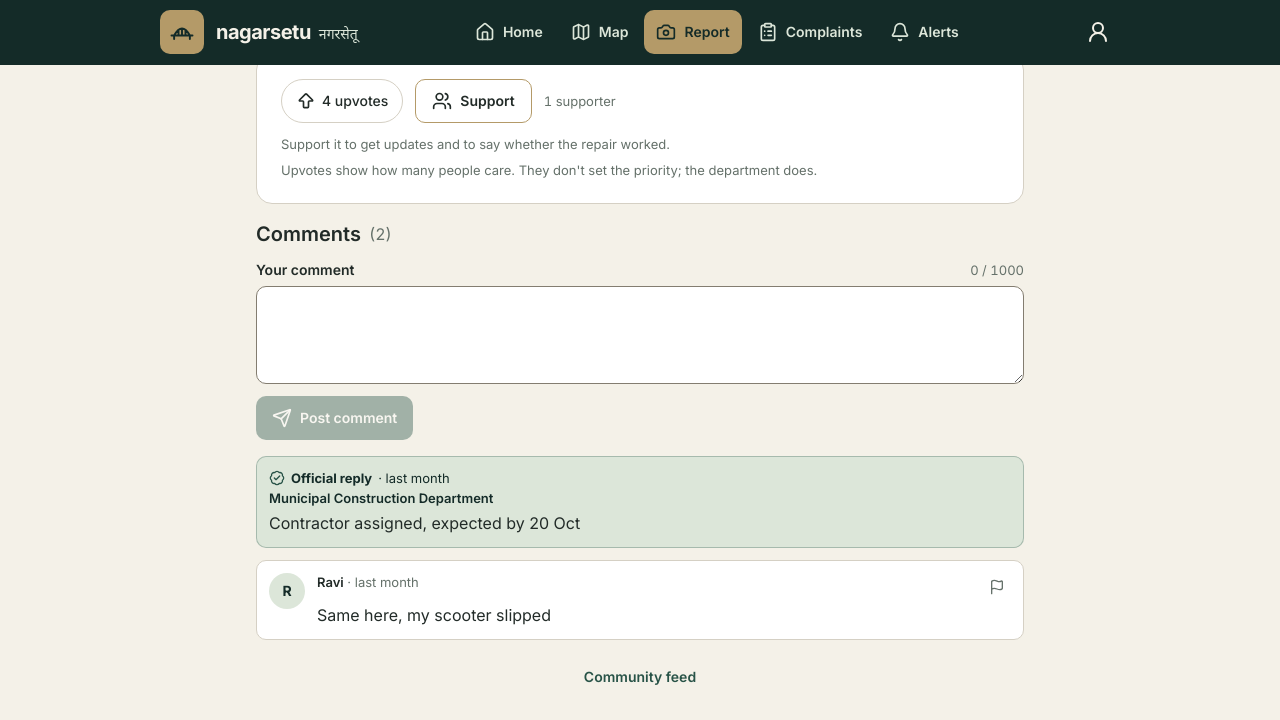
Test: public issue view › reports a comment with a reason from the sheet
Later steps or results of the test are not shown.
(page scrolled)
Click the button named "Report comment" at [997, 587], box [975,565,1019,609]
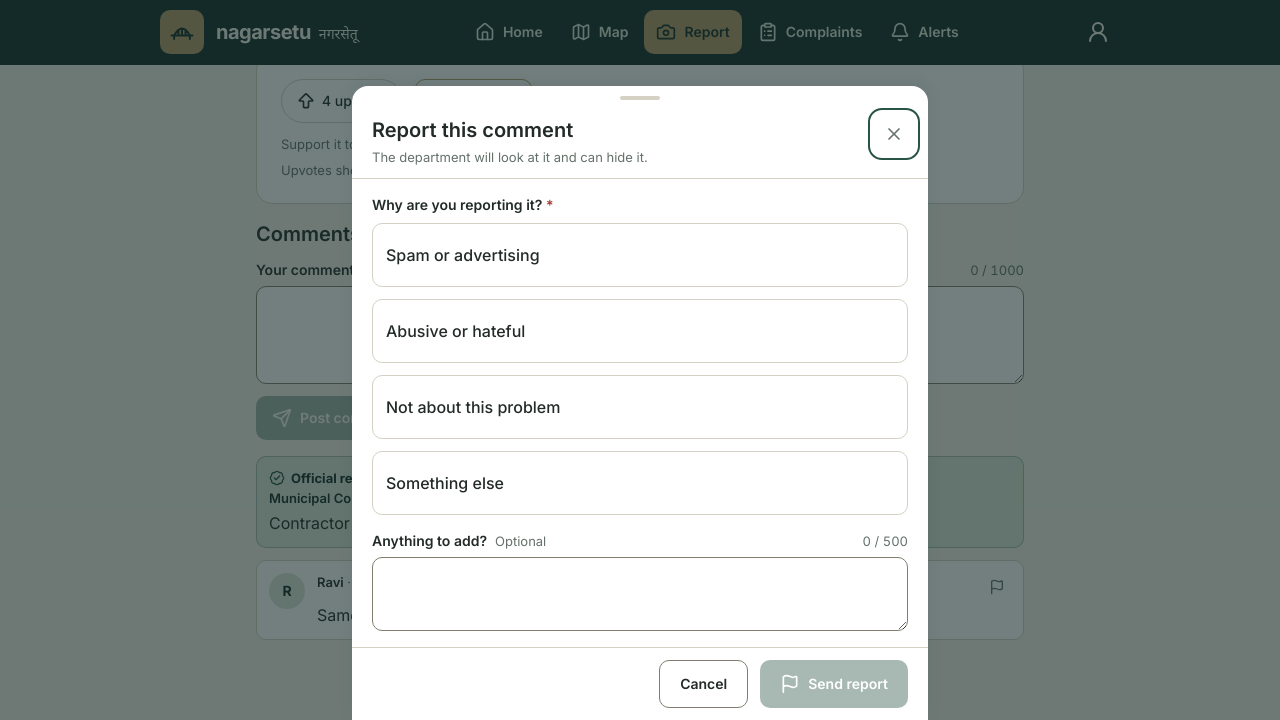
Now the button "Send report" is disabled, box [760,660,908,708]
Click the radio button labelled "Abusive or hateful" at [640, 331], box [372,299,908,363]
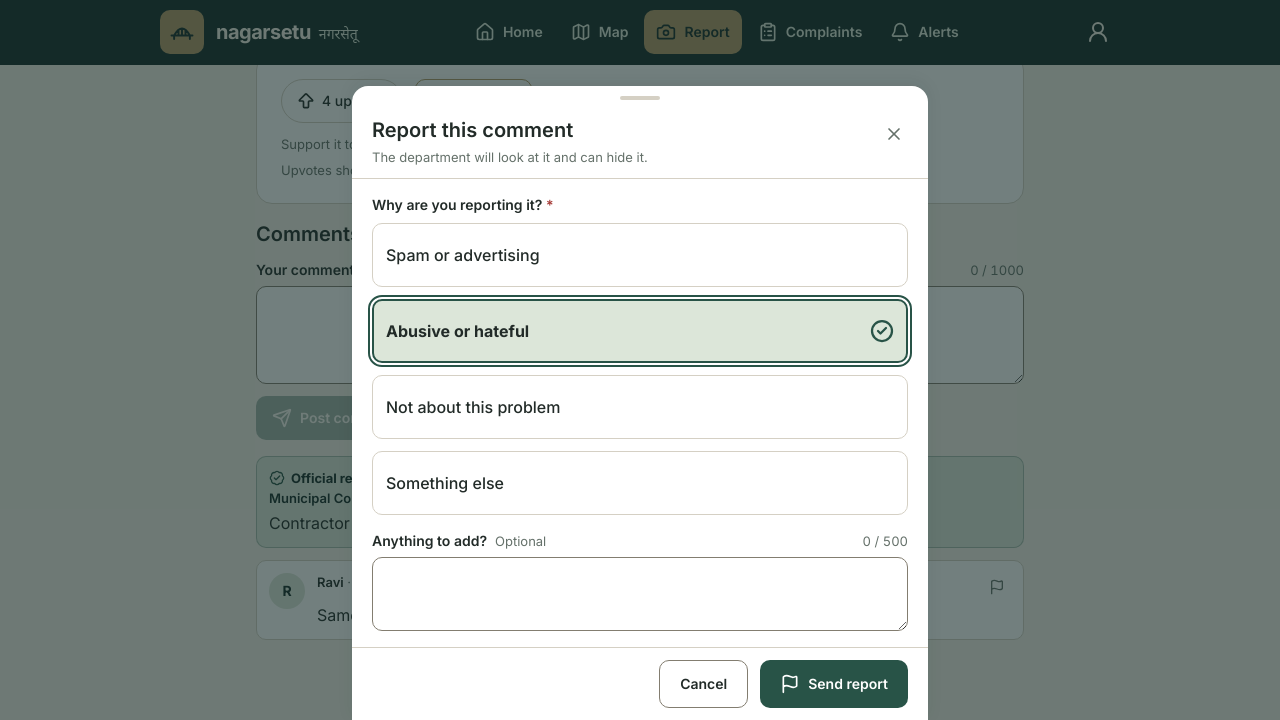
Now the radio button labelled "Abusive or hateful" is checked, box [372,299,908,363]
